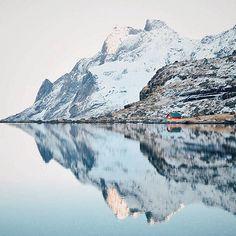mountain: (9, 31, 227, 221)
